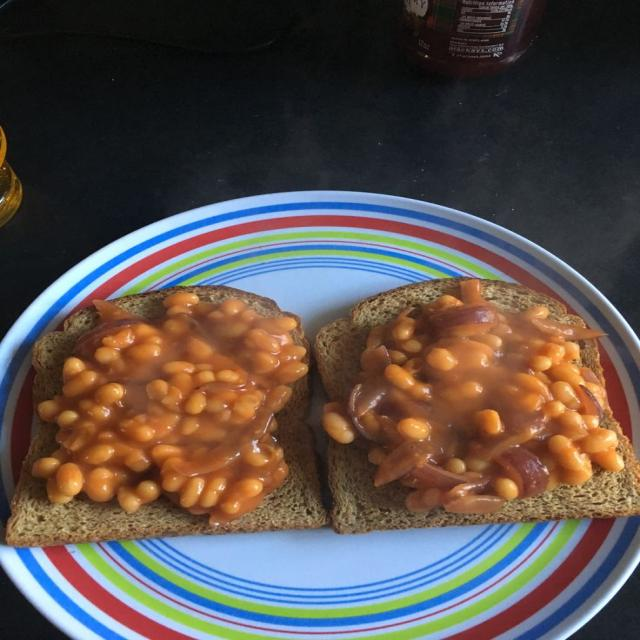sliced_bread: (6, 382, 327, 547), (329, 410, 639, 533), (317, 279, 463, 401), (34, 308, 97, 402), (485, 281, 579, 324), (187, 286, 280, 314), (116, 289, 174, 320)
